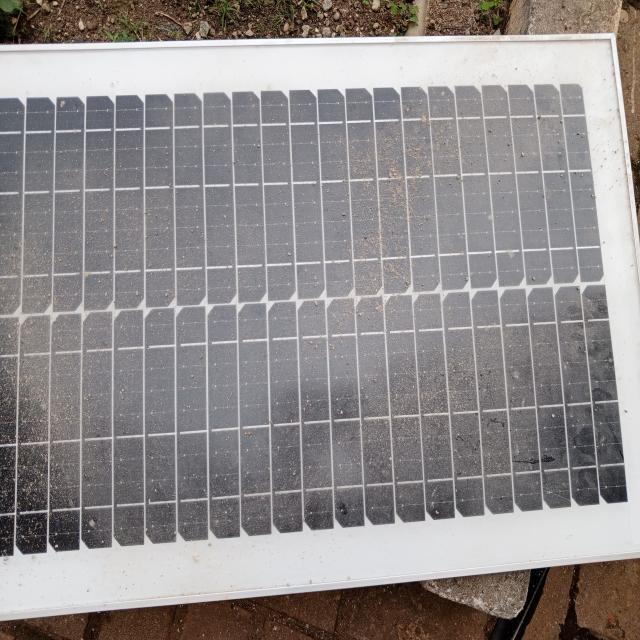Surface Contaminant: (3, 67, 609, 526)
